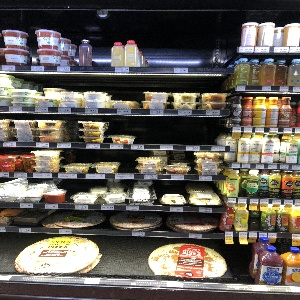void: (141, 39, 232, 66), (137, 119, 224, 144), (93, 37, 112, 66)
